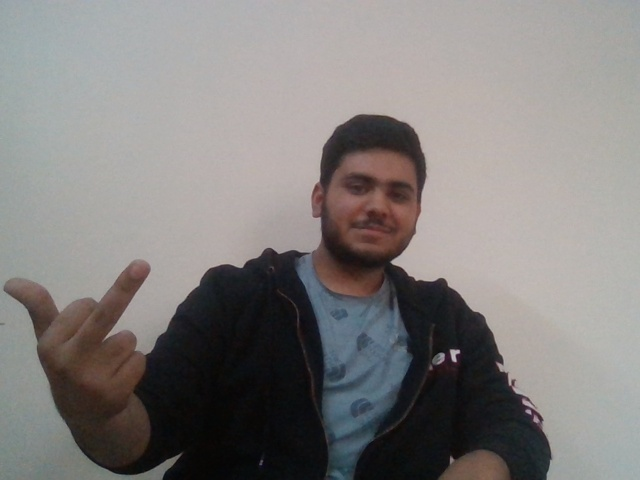Hello: (2, 246, 156, 420)
